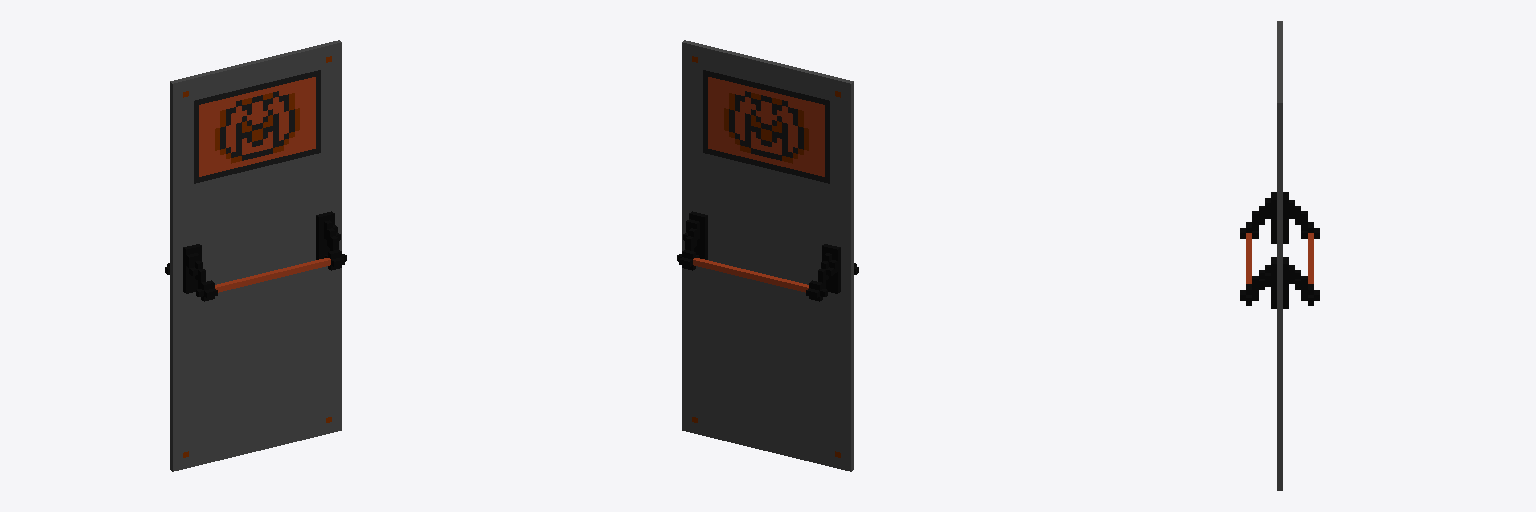
3 renders of one model, left to right at view 1: azimuth 30°, elevation 25°; view 2: azimuth 150°, elevation 25°; view 3: azimuth 270°, elevation 25°, orthographic.
Parts seen in each view (by area): view 1: object 1; view 2: object 1; view 3: object 1.
Boxes of the visible parts, <box> form: object 1: <box>165,40,346,471</box>; object 1: <box>677,40,858,471</box>; object 1: <box>1240,21,1319,490</box>.
Bounding box in the file's own units: 3.2 × 7 × 1.3.
Materials: 1 (1 with a texture image).